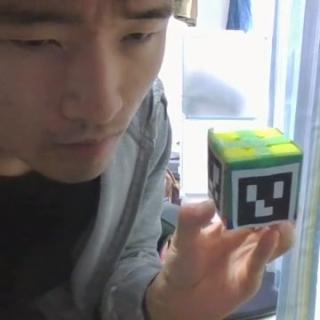armor: (231, 162, 298, 230), (208, 142, 224, 216)
robot: (204, 126, 303, 231)
